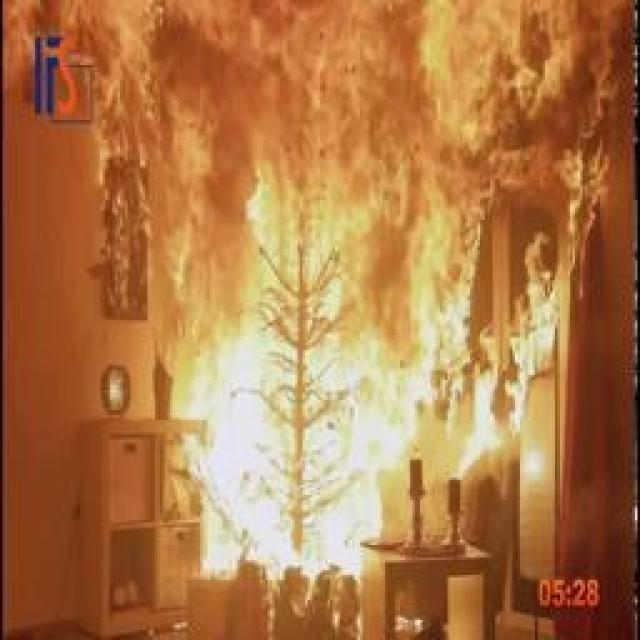fire: (2, 0, 638, 585)
